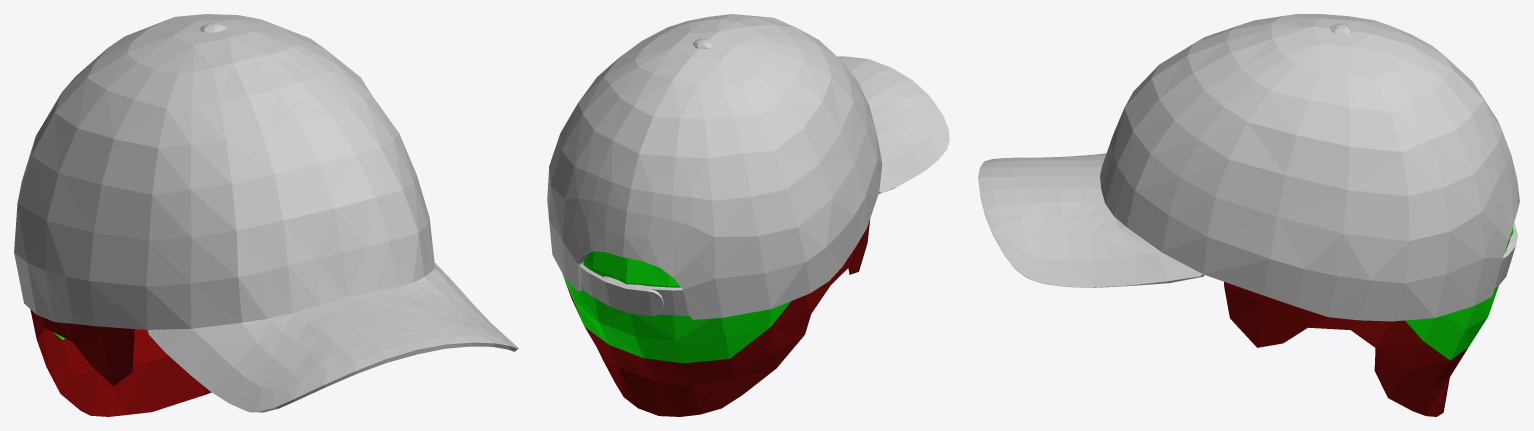
Rendered from BaseballHat_Hair_03.obj.
3 renders of one model, left to right at view 1: azimuth 30°, elevation 25°; view 2: azimuth 150°, elevation 25°; view 3: azimuth 270°, elevation 25°, orthographic. The views are drawn at different scales.
Bounding box in the file's own units: 17.15 × 20.81 × 27.
